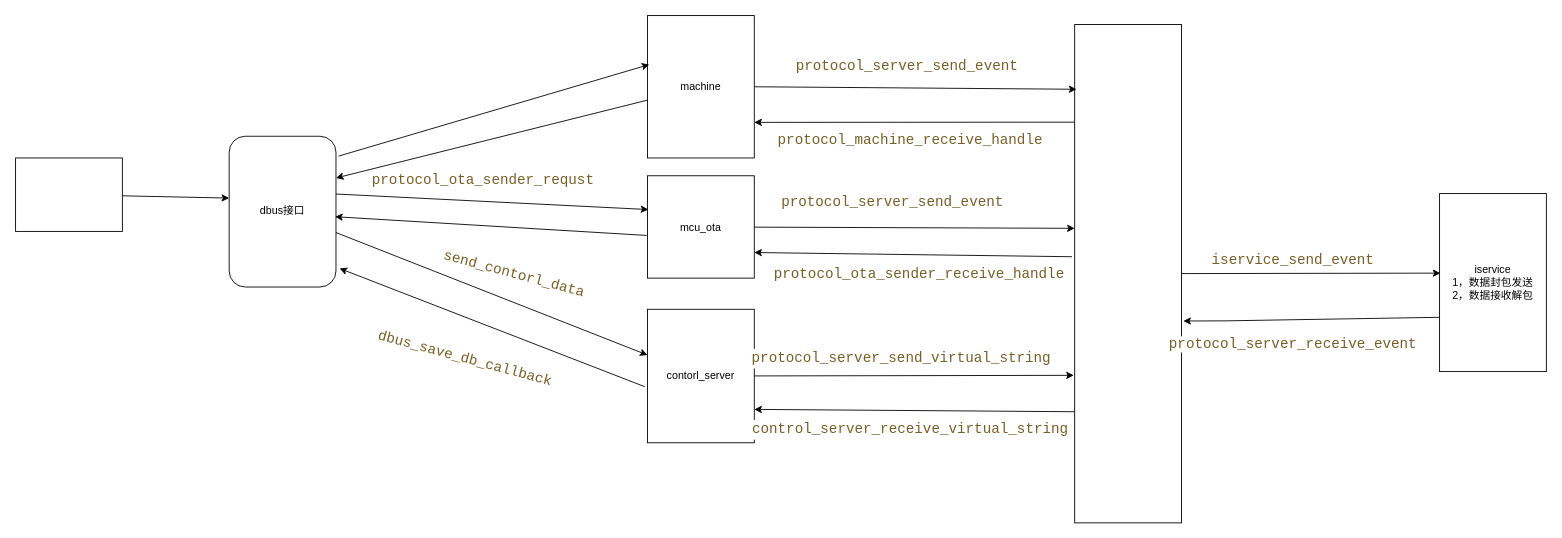
Some shapes in this 1562 by 538 pixel diagram are drawn without their labels. Each missing label, with the centre of its shape:
"protocol_server 1，回复超时重发 2，心跳" goes at (1127,273).
"UI,数据库，Event_server等其他模块" goes at (68,194).
